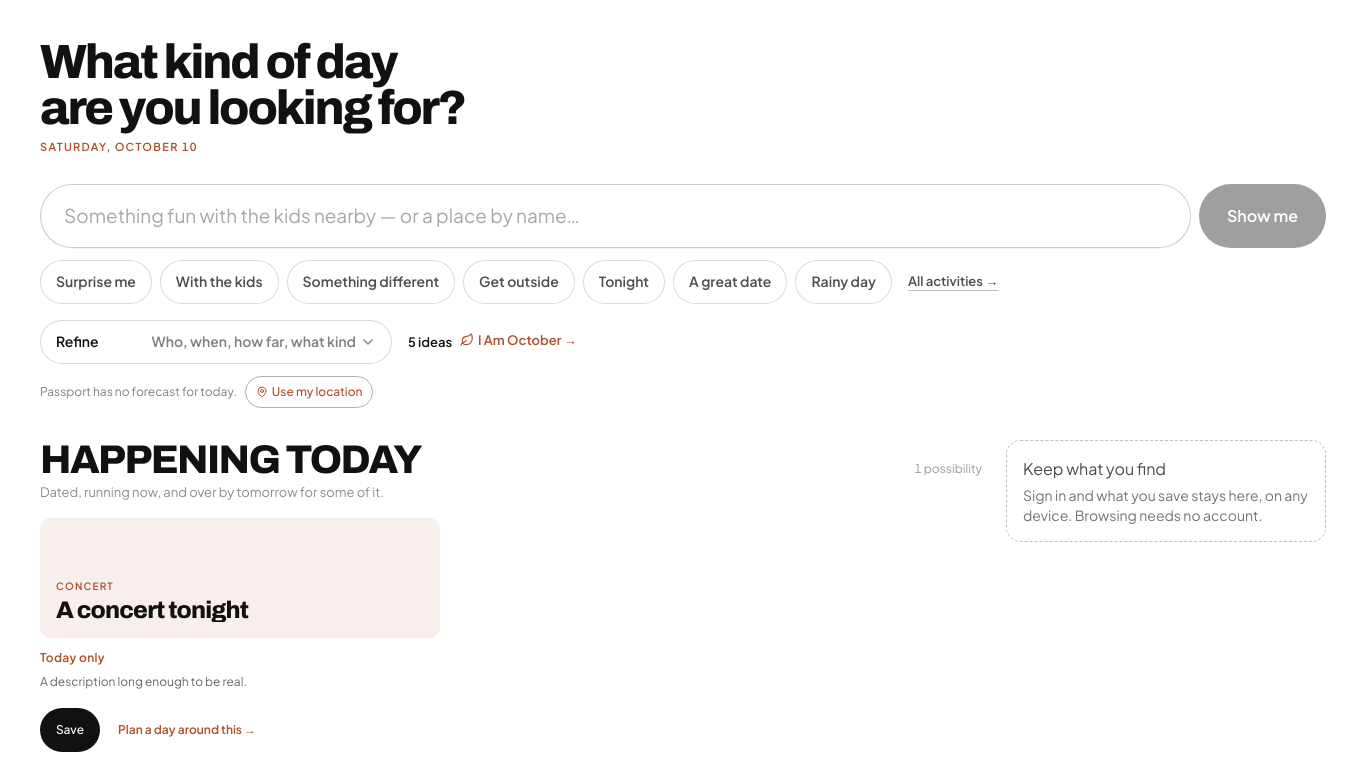
Test: what must not have changed › still finds something the composed page never showed
Type "September" into the field with test id "ask-input".
click(616, 216); type("September")  # box [40,184,1191,248]
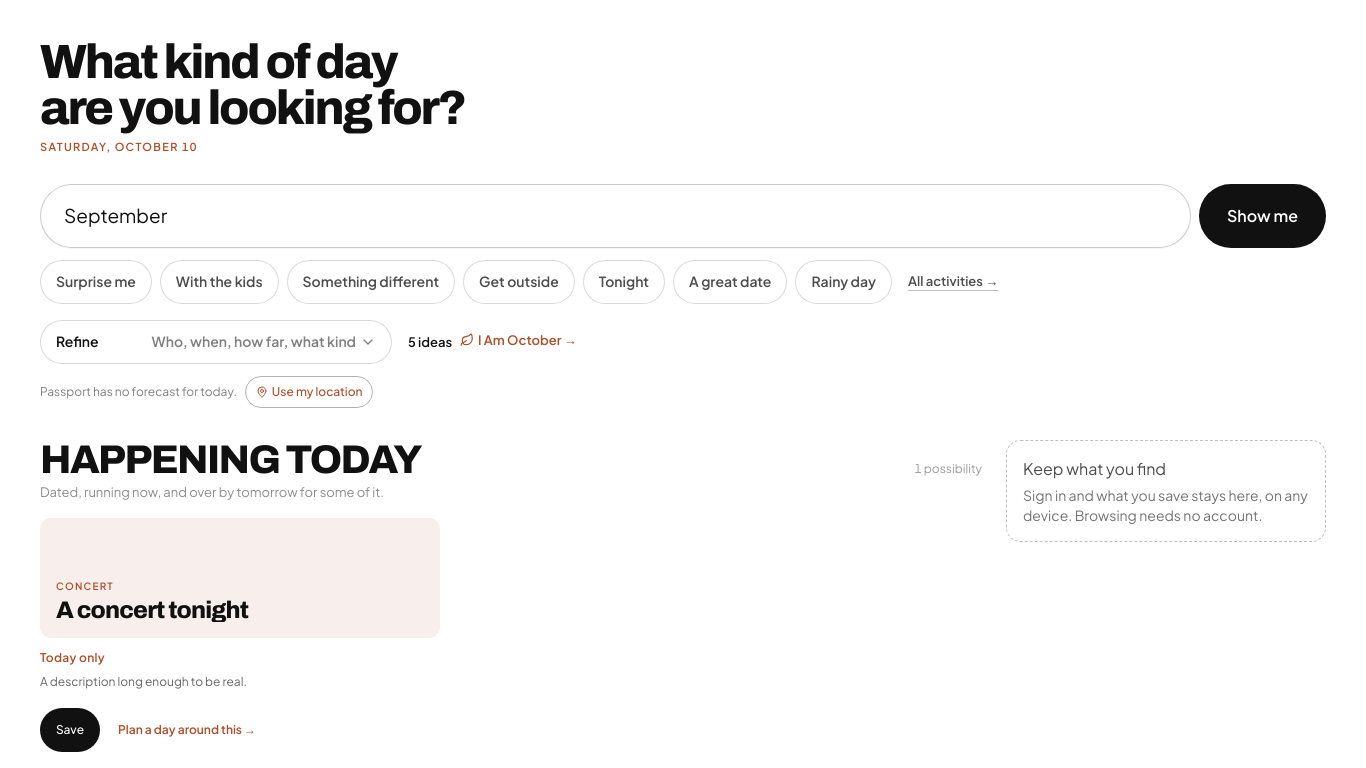
Click the button with test id "ask-submit".
click(1262, 216)  # box [1199,184,1326,248]
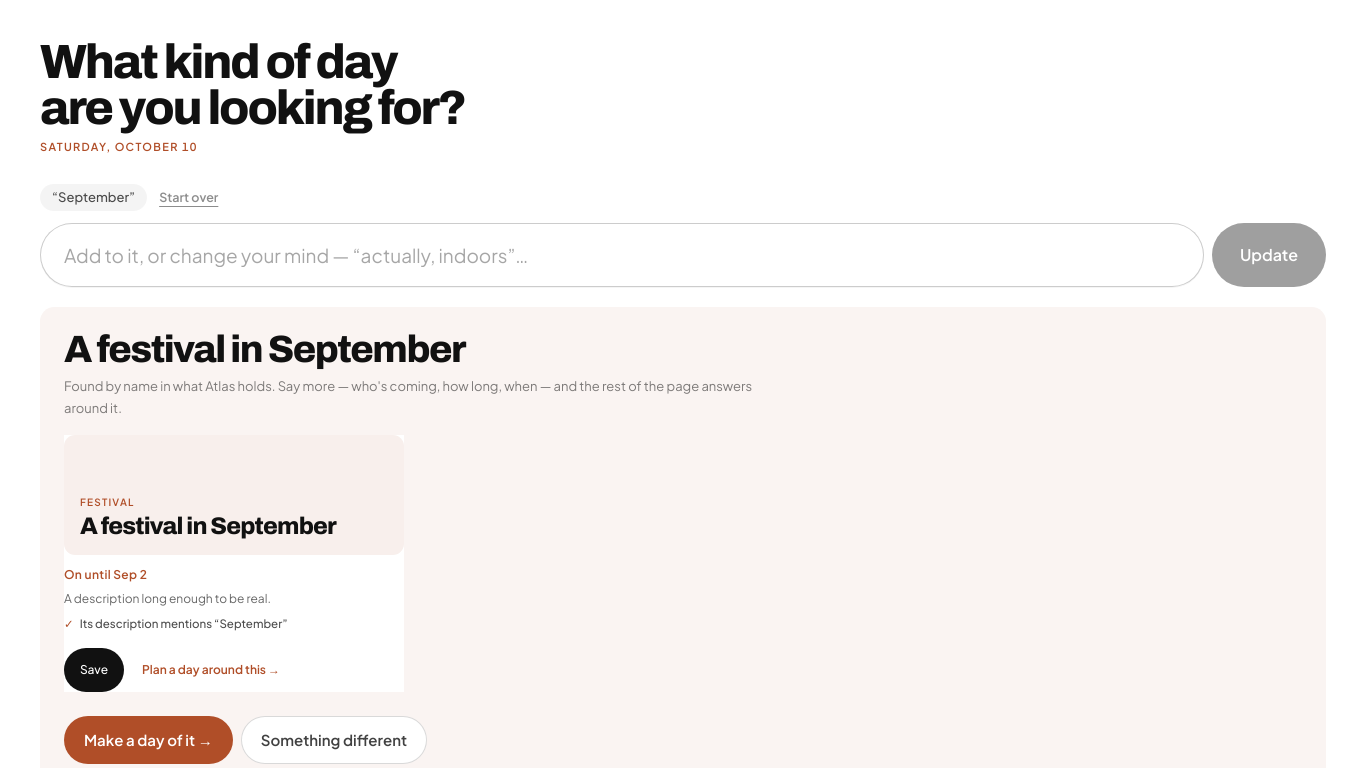
Expected: the list item with test id "possibility" shows "A festival in September", [80,513,336,539]
